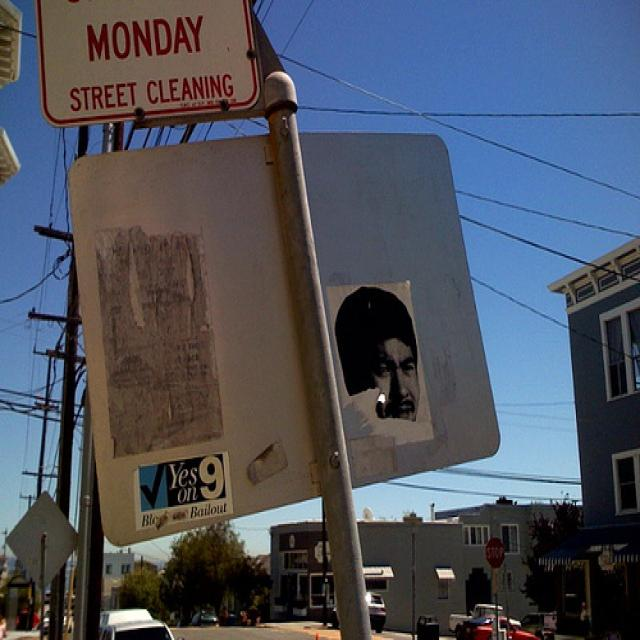Vehicle: (448, 603, 521, 636), (456, 614, 542, 640), (101, 618, 175, 640), (519, 611, 556, 639), (366, 591, 387, 634), (43, 609, 73, 633), (416, 610, 439, 640), (192, 608, 221, 627), (225, 614, 246, 626)
